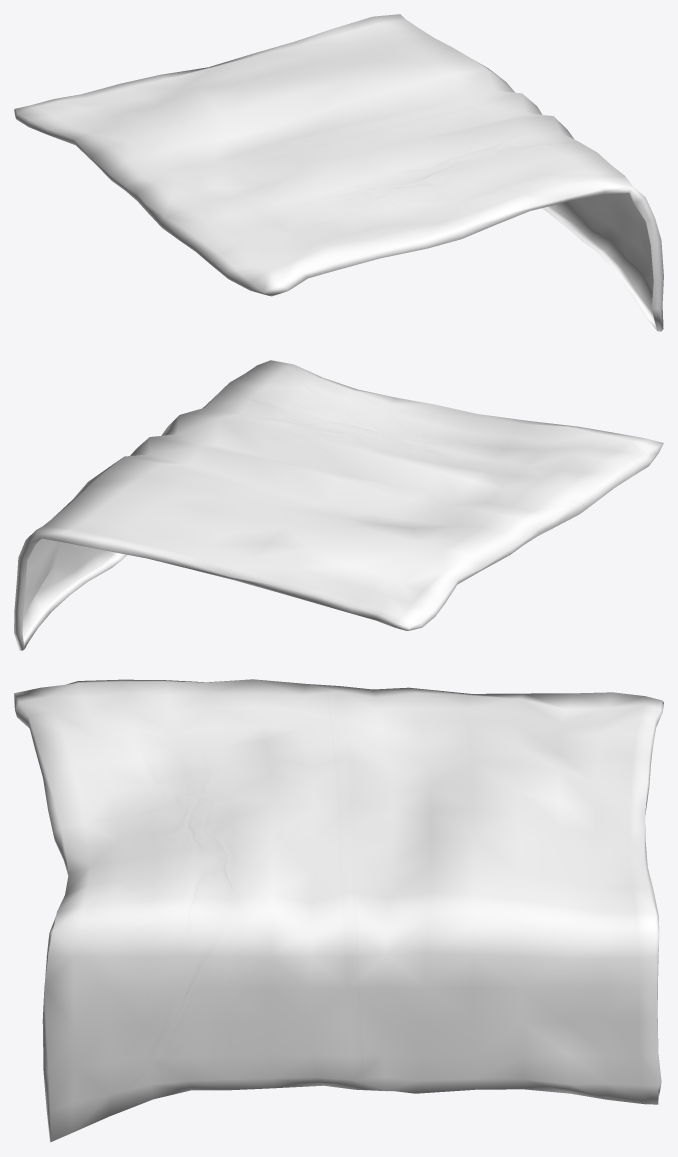
File: Blanket.fbx
The picture shows the model from 3 angles, top to bottom: view 1: azimuth 30°, elevation 25°; view 2: azimuth 150°, elevation 25°; view 3: azimuth 270°, elevation 25°; orthographic projection. The views are drawn at different scales.
Visible parts, largest first — view 1: Blanket; view 2: Blanket; view 3: Blanket.
Boxes of the visible parts, box(x1,y1,x2,y2) form: Blanket: box(14, 14, 663, 331); Blanket: box(14, 360, 663, 650); Blanket: box(14, 679, 663, 1142).
Bounding box in the file's own units: 94.98 × 34.74 × 95.73.
Materials: 1 (1 with a texture image).
